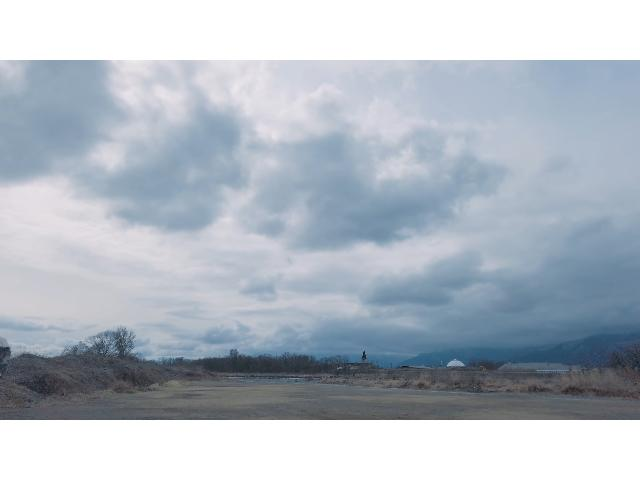Anti-Drone: (284, 255, 294, 265)
